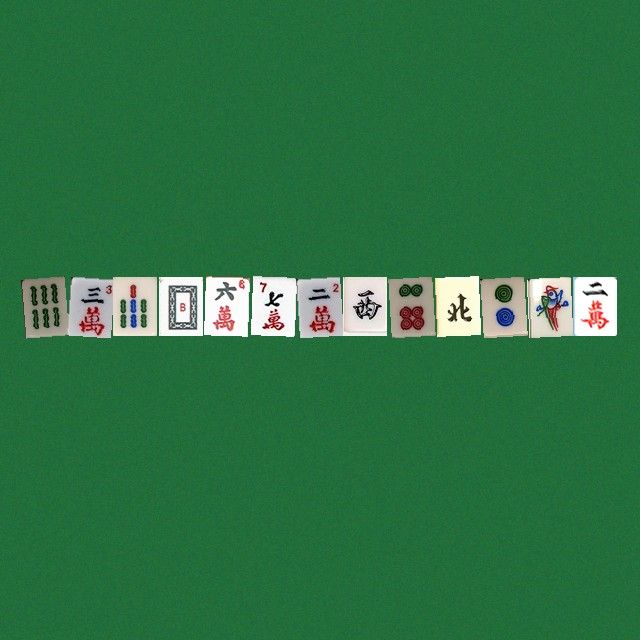tile: (20, 276, 64, 335), (66, 276, 110, 335), (112, 276, 156, 335), (158, 276, 202, 335), (204, 276, 248, 335), (250, 276, 294, 335), (296, 276, 340, 335), (342, 276, 386, 335), (388, 276, 432, 335), (434, 276, 478, 335), (480, 276, 524, 335), (526, 276, 570, 335), (572, 276, 616, 335)
